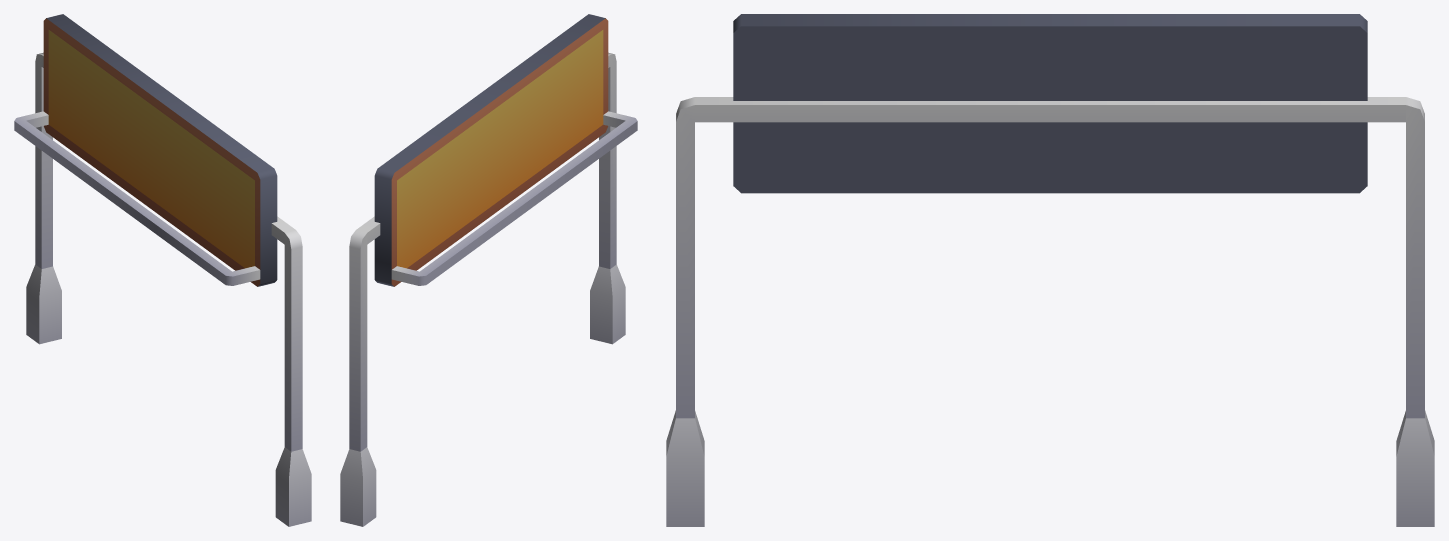
File: sign-highway-wide.glb
3 renders of one model, left to right at view 1: azimuth 30°, elevation 25°; view 2: azimuth 150°, elevation 25°; view 3: azimuth 270°, elevation 25°, orthographic. The views are drawn at different scales.
Visible parts, largest first — view 1: sign-highway-wide; view 2: sign-highway-wide; view 3: sign-highway-wide.
Boxes of the visible parts, bbox=[...] form: sign-highway-wide: bbox=[14, 14, 311, 526]; sign-highway-wide: bbox=[340, 14, 637, 526]; sign-highway-wide: bbox=[666, 14, 1434, 526].
Bounding box in the file's own units: 0.1324 × 0.7074 × 1.
